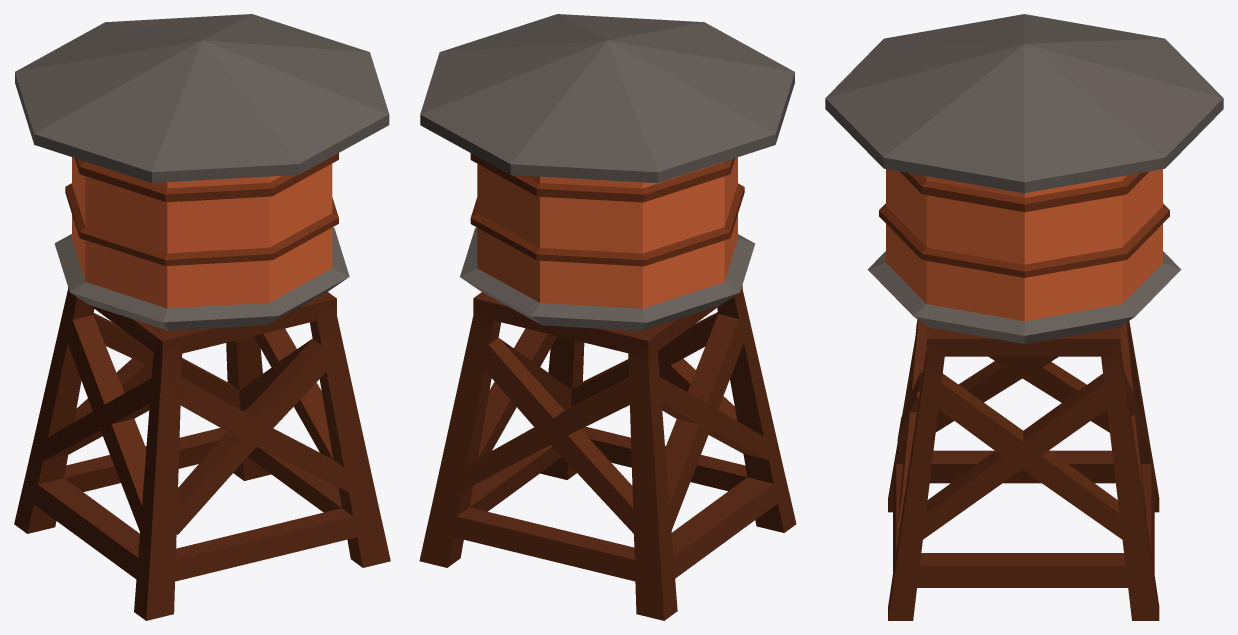
The model's file is WaterTower.fbx.
The picture shows the model from 3 angles, left to right: view 1: azimuth 30°, elevation 25°; view 2: azimuth 150°, elevation 25°; view 3: azimuth 270°, elevation 25°; orthographic projection. The views are drawn at different scales.
Visible parts, largest first — view 1: WaterTower; view 2: WaterTower; view 3: WaterTower.
Part boxes in pixels (<box>): WaterTower: <box>14,14,390,620</box>; WaterTower: <box>419,14,796,620</box>; WaterTower: <box>825,14,1223,620</box>.
Bounding box in the file's own units: 20.36 × 29.1 × 20.36.
